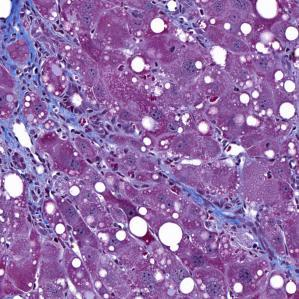fibrosis: (5, 19, 90, 160), (168, 173, 251, 240)
